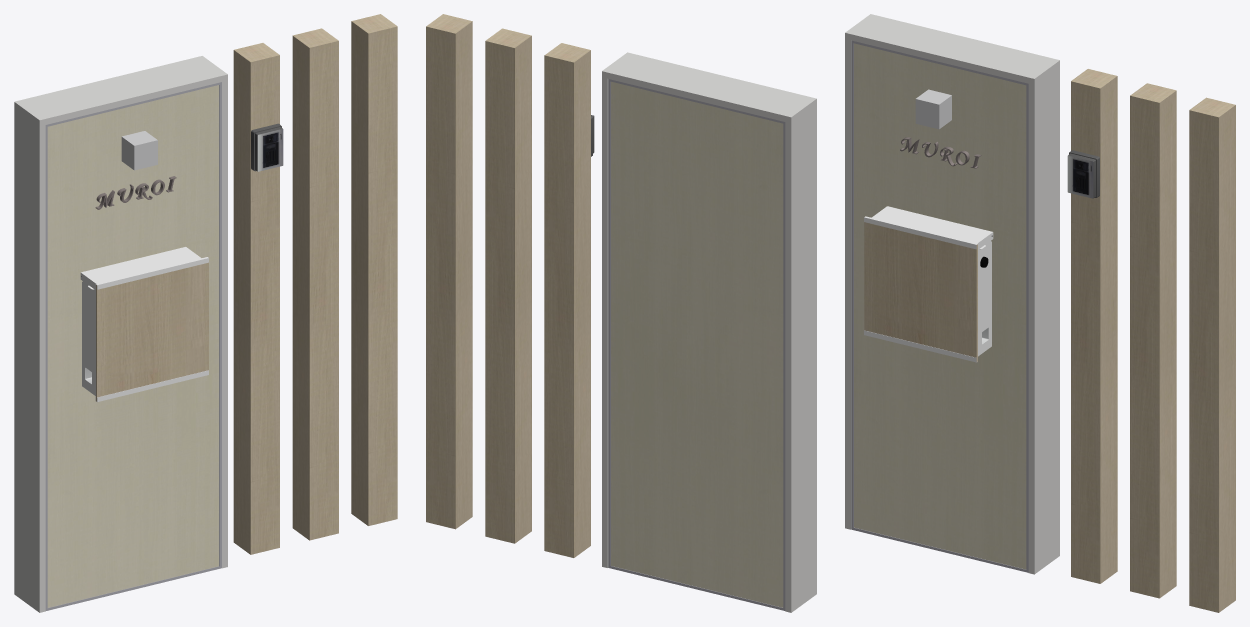
Rendered from ab40_springoak.fbx.
The picture shows the model from 3 angles, left to right: view 1: azimuth 30°, elevation 25°; view 2: azimuth 150°, elevation 25°; view 3: azimuth 330°, elevation 25°; orthographic projection.
Visible parts, largest first — view 1: AB40-springoak; view 2: AB40-springoak; view 3: AB40-springoak.
Boxes of the visible parts, x1=… form: AB40-springoak: x1=14, y1=14, x2=397, y2=612; AB40-springoak: x1=426, y1=14, x2=816, y2=612; AB40-springoak: x1=845, y1=14, x2=1235, y2=612.
Bounding box in the file's own units: 124 × 160 × 26.35.
16 materials, 7 textured.
